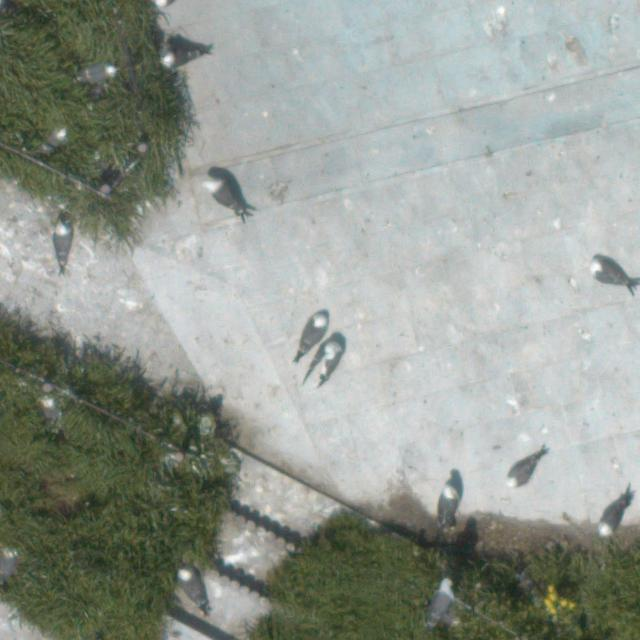umineko: (290, 311, 328, 364), (175, 566, 214, 617), (306, 336, 346, 385), (588, 255, 638, 293), (204, 175, 248, 217), (438, 481, 461, 534), (42, 125, 66, 155), (432, 583, 452, 617), (507, 462, 535, 486), (601, 506, 623, 534), (160, 50, 197, 66), (82, 63, 114, 79), (55, 225, 70, 257), (44, 398, 58, 422)
